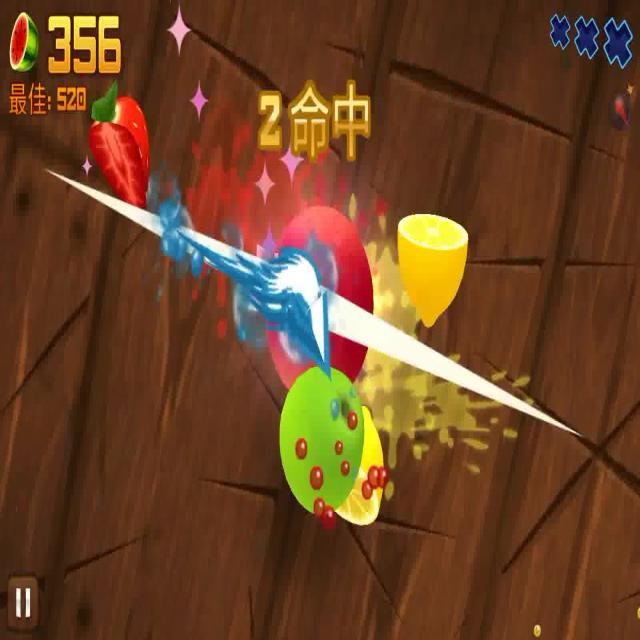fruit: (260, 207, 372, 390), (280, 365, 358, 513), (396, 215, 468, 334), (86, 94, 150, 216), (336, 407, 384, 527)
